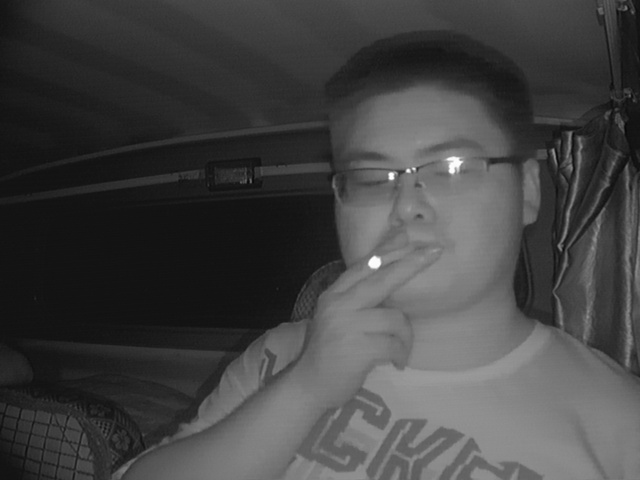hand: (319, 236, 449, 364)
